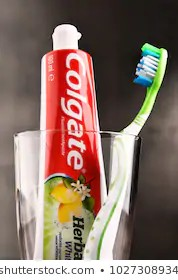toothbrush: (90, 39, 170, 242)
